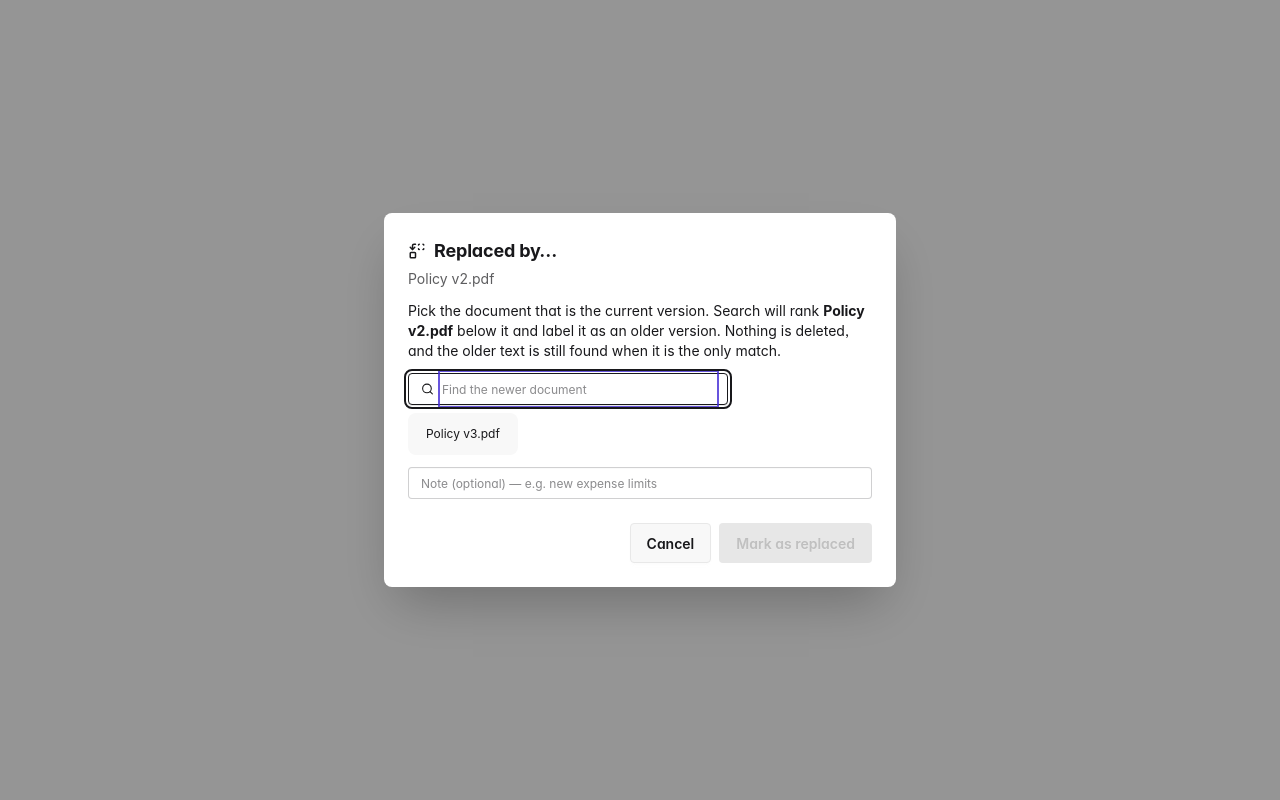
Test: SupersedeDialog › shows the server refusal inline
Click the option "Policy v3.pdf" at (463, 434), box [416,421,510,447]
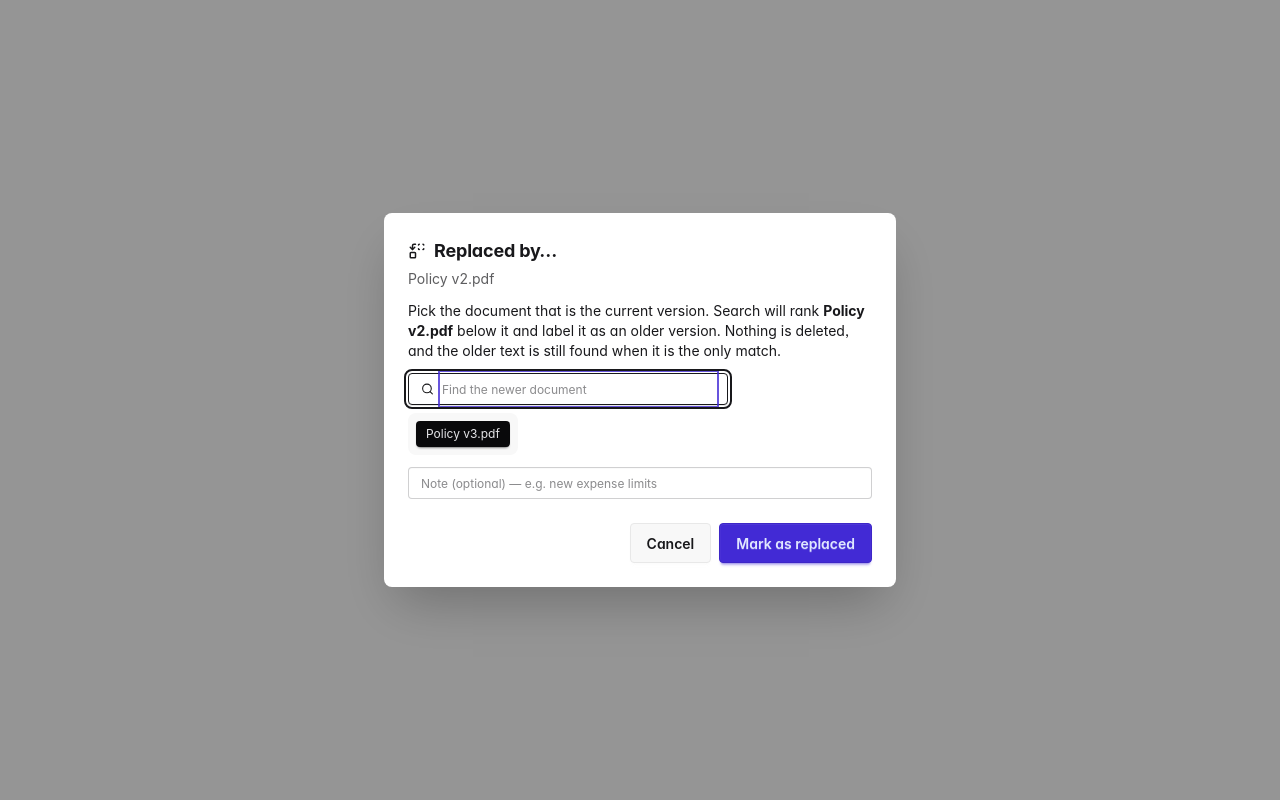
Click the button with test id "confirm-replacement" at (796, 543), box [719,523,872,563]
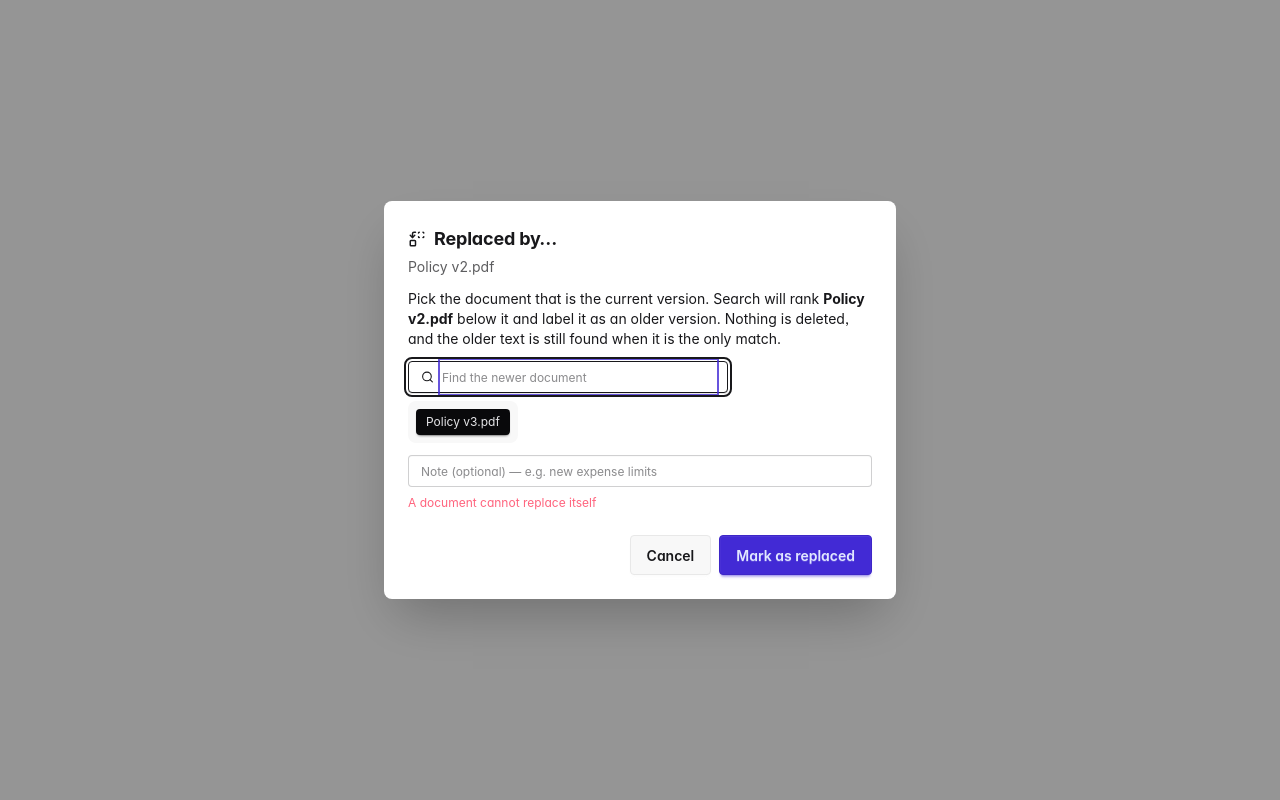
Result: the message "A document cannot replace itself" is shown at [408,495,596,510]
